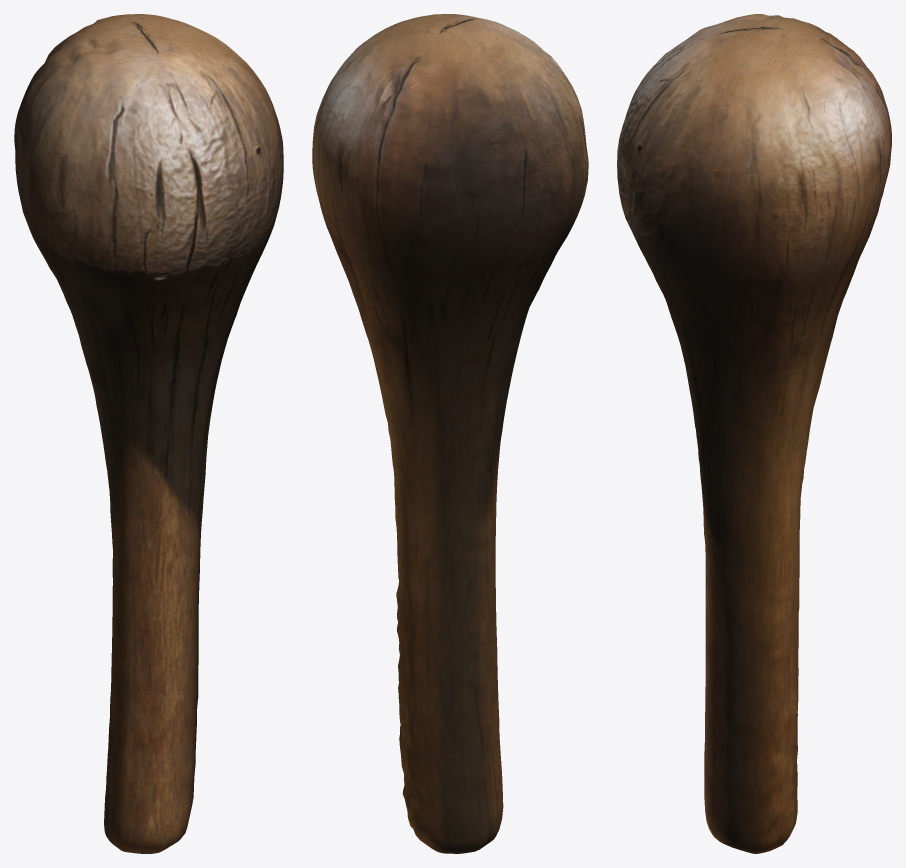
File: Stick.fbx
3 views of the same model, side by side, from view 1: azimuth 30°, elevation 25°; view 2: azimuth 150°, elevation 25°; view 3: azimuth 270°, elevation 25° (orthographic).
Parts seen in each view (by area): view 1: Mesh1_Mesh1.008; view 2: Mesh1_Mesh1.008; view 3: Mesh1_Mesh1.008.
Boxes of the visible parts, <box> form: Mesh1_Mesh1.008: <box>14,14,283,853</box>; Mesh1_Mesh1.008: <box>312,14,588,853</box>; Mesh1_Mesh1.008: <box>617,14,891,853</box>.
Bounding box in the file's own units: 60.97 × 200 × 60.77.
